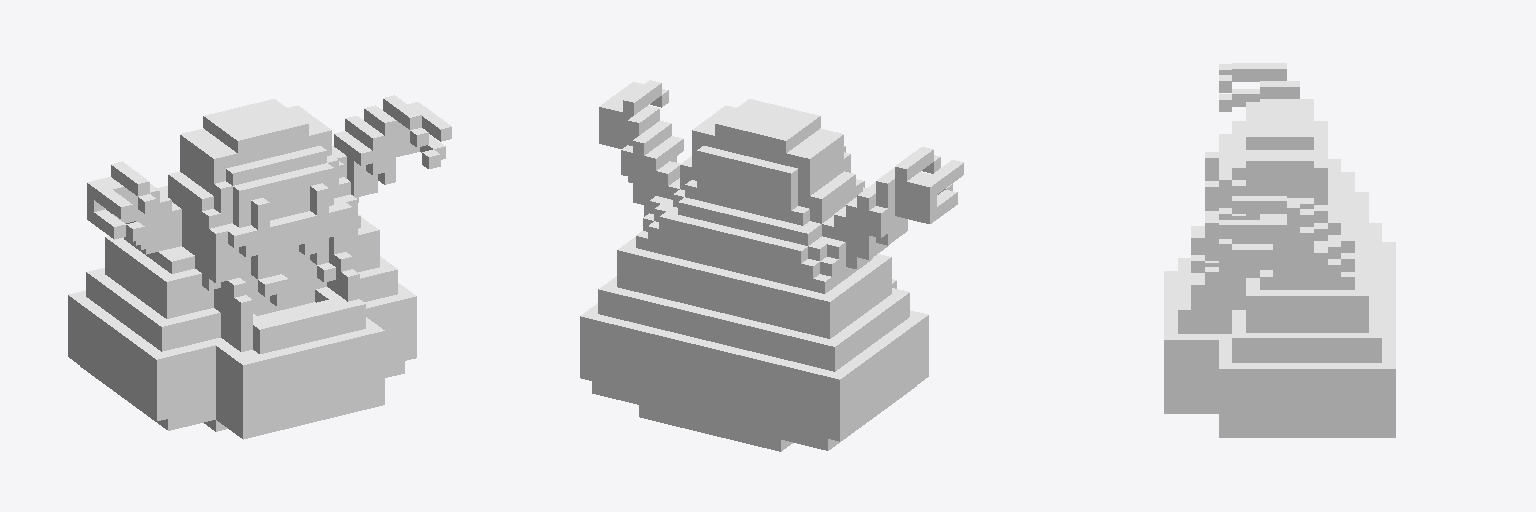
File: 3DLavaSludge.obj
The picture shows the model from 3 angles: view 1: azimuth 30°, elevation 25°; view 2: azimuth 150°, elevation 25°; view 3: azimuth 270°, elevation 25°; orthographic projection.
Visible parts, largest first — view 1: LavaSludge-1; view 2: LavaSludge-1; view 3: LavaSludge-1.
Part boxes in pixels (bbox=[...]): LavaSludge-1: bbox=[68, 95, 451, 439]; LavaSludge-1: bbox=[580, 80, 963, 451]; LavaSludge-1: bbox=[1164, 63, 1395, 437].
Size of the model in its own units: 2.8 by 2.2 by 1.7.